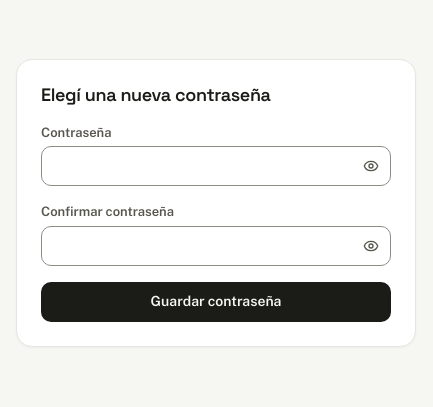
Test: ResetPasswordPage — R1.3 › same_password de Supabase (en inglés) se muestra en castellano
Type "password123" into the password field labelled "Contraseña" at (216, 166), box [41,146,391,186]
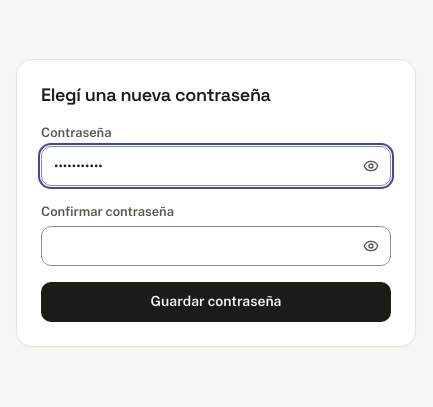
Type "password123" into the password field labelled "Confirmar contraseña" at (216, 246), box [41,226,391,266]
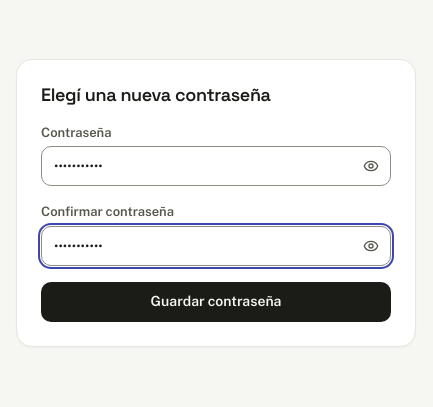
Click the button "Guardar contraseña" at (216, 302), box [41,282,391,322]
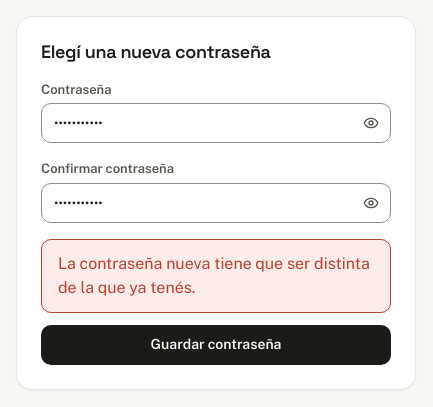
Check: the message reads "La contraseña nueva tiene que ser distinta de la que ya tenés.", box [58,254,370,297]
